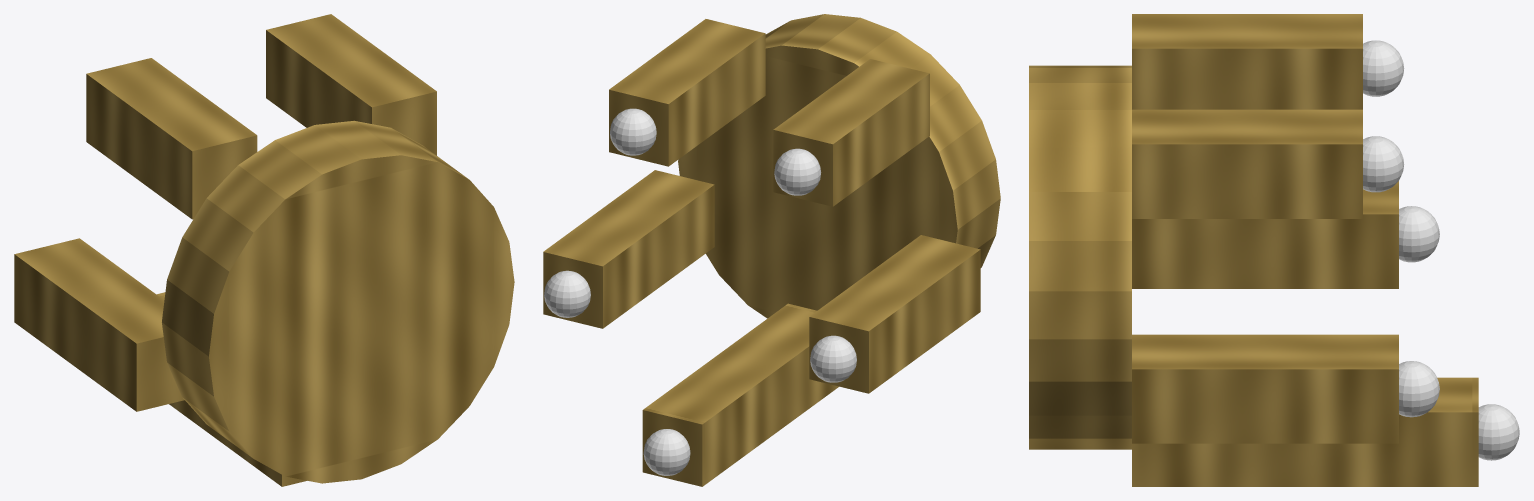
Rendered from crown_mesh.fbx.
The picture shows the model from 3 angles, left to right: view 1: azimuth 30°, elevation 25°; view 2: azimuth 150°, elevation 25°; view 3: azimuth 270°, elevation 25°; orthographic projection. The views are drawn at different scales.
Parts seen in each view (by area): view 1: Band, Point_1, Point_2, Point_3, Point_0; view 2: Band, Point_0, Point_1, Point_4, Point_2, Point_3, Point_1_Gem, Point_2_Gem, Point_4_Gem, Point_3_Gem, Point_0_Gem; view 3: Band, Point_4, Point_3, Point_2, Point_1, Point_0, Point_0_Gem, Point_3_Gem, Point_2_Gem, Point_1_Gem, Point_4_Gem.
Boxes of the visible parts, bbox=[...] form: Band: bbox=[162, 120, 514, 483]; Point_1: bbox=[14, 238, 184, 411]; Point_2: bbox=[86, 58, 257, 219]; Point_3: bbox=[266, 14, 436, 155]; Point_0: bbox=[156, 292, 306, 486]; Band: bbox=[678, 14, 1000, 318]; Point_0: bbox=[642, 303, 838, 486]; Point_1: bbox=[809, 235, 980, 393]; Point_4: bbox=[543, 170, 714, 328]; Point_2: bbox=[773, 59, 929, 206]; Point_3: bbox=[609, 19, 765, 166]; Point_1_Gem: bbox=[810, 335, 856, 382]; Point_2_Gem: bbox=[774, 148, 821, 195]; Point_4_Gem: bbox=[544, 270, 590, 317]; Point_3_Gem: bbox=[610, 108, 656, 155]; Point_0_Gem: bbox=[643, 429, 690, 475]; Band: bbox=[1029, 65, 1131, 449]; Point_4: bbox=[1132, 334, 1398, 443]; Point_3: bbox=[1132, 109, 1362, 218]; Point_2: bbox=[1132, 14, 1362, 109]; Point_1: bbox=[1132, 181, 1398, 288]; Point_0: bbox=[1132, 377, 1478, 486]; Point_0_Gem: bbox=[1478, 404, 1519, 460]; Point_3_Gem: bbox=[1363, 136, 1404, 192]; Point_2_Gem: bbox=[1363, 40, 1404, 96]; Point_1_Gem: bbox=[1399, 206, 1439, 262]; Point_4_Gem: bbox=[1399, 361, 1439, 417].
Size of the model in its own units: 175 by 168 by 191.
